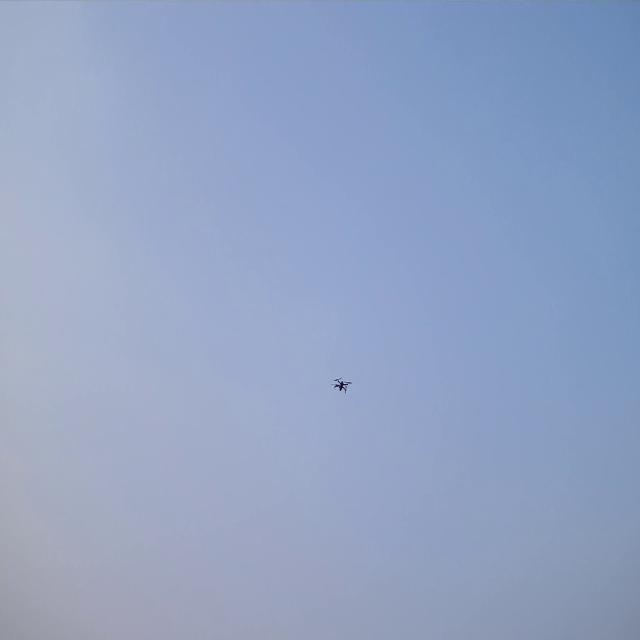UAV: (330, 375, 352, 394)
